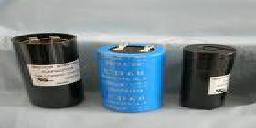Electrolytic-Capacitor: (9, 24, 90, 110), (96, 42, 172, 117), (179, 41, 238, 111)
